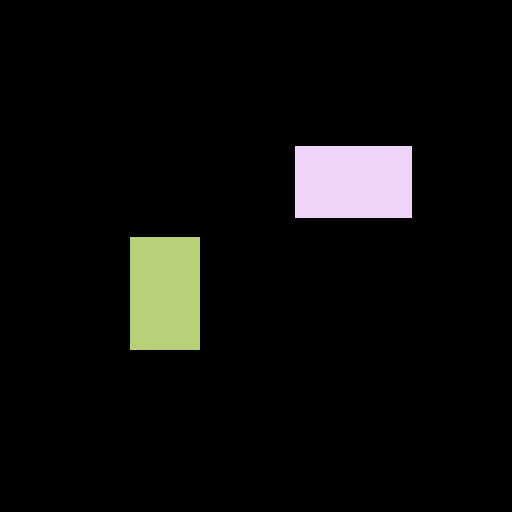rectangle: (295, 146, 411, 217), (130, 237, 199, 349)
